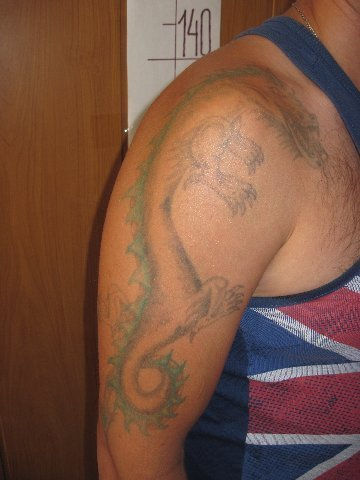tatu6_drakon: (98, 34, 344, 455)
